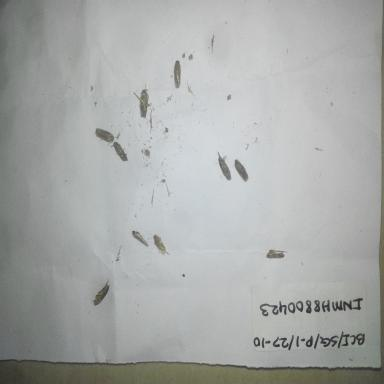pbw: (215, 150, 233, 182), (93, 124, 117, 147), (91, 278, 110, 306), (137, 86, 151, 123), (231, 156, 250, 183), (110, 140, 129, 163), (150, 233, 169, 256), (131, 228, 150, 248), (265, 247, 289, 262), (172, 58, 183, 90)
